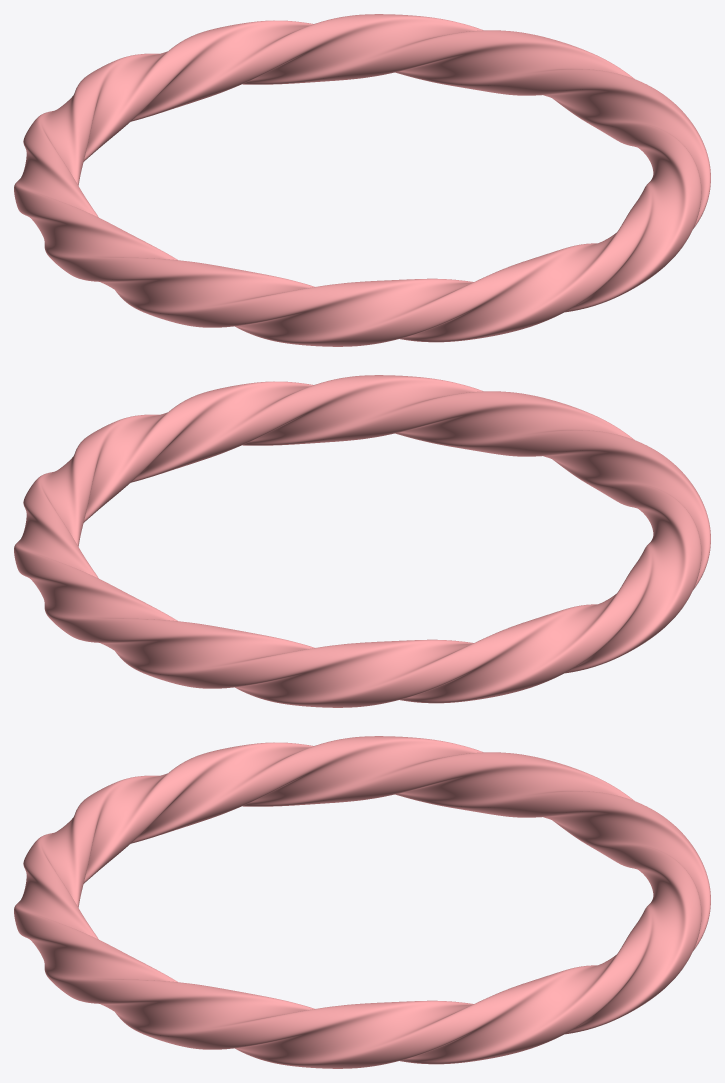
Rendered from CakeFillCreamPink.glb.
3 views of the same model, one above another, from view 1: azimuth 30°, elevation 25°; view 2: azimuth 150°, elevation 25°; view 3: azimuth 270°, elevation 25° (orthographic).
Parts seen in each view (by area): view 1: Torus; view 2: Torus; view 3: Torus.
Boxes of the visible parts, left/top/right/bottom form: Torus: left=14, top=14, right=710, bottom=346; Torus: left=14, top=375, right=710, bottom=707; Torus: left=14, top=736, right=710, bottom=1068.
Size of the model in its own units: 1.95 by 0.1871 by 1.95.
